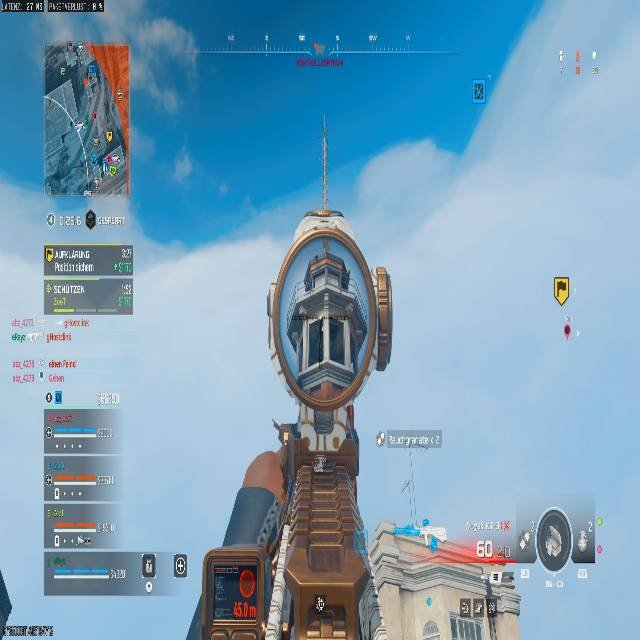head: (265, 228, 390, 412)
